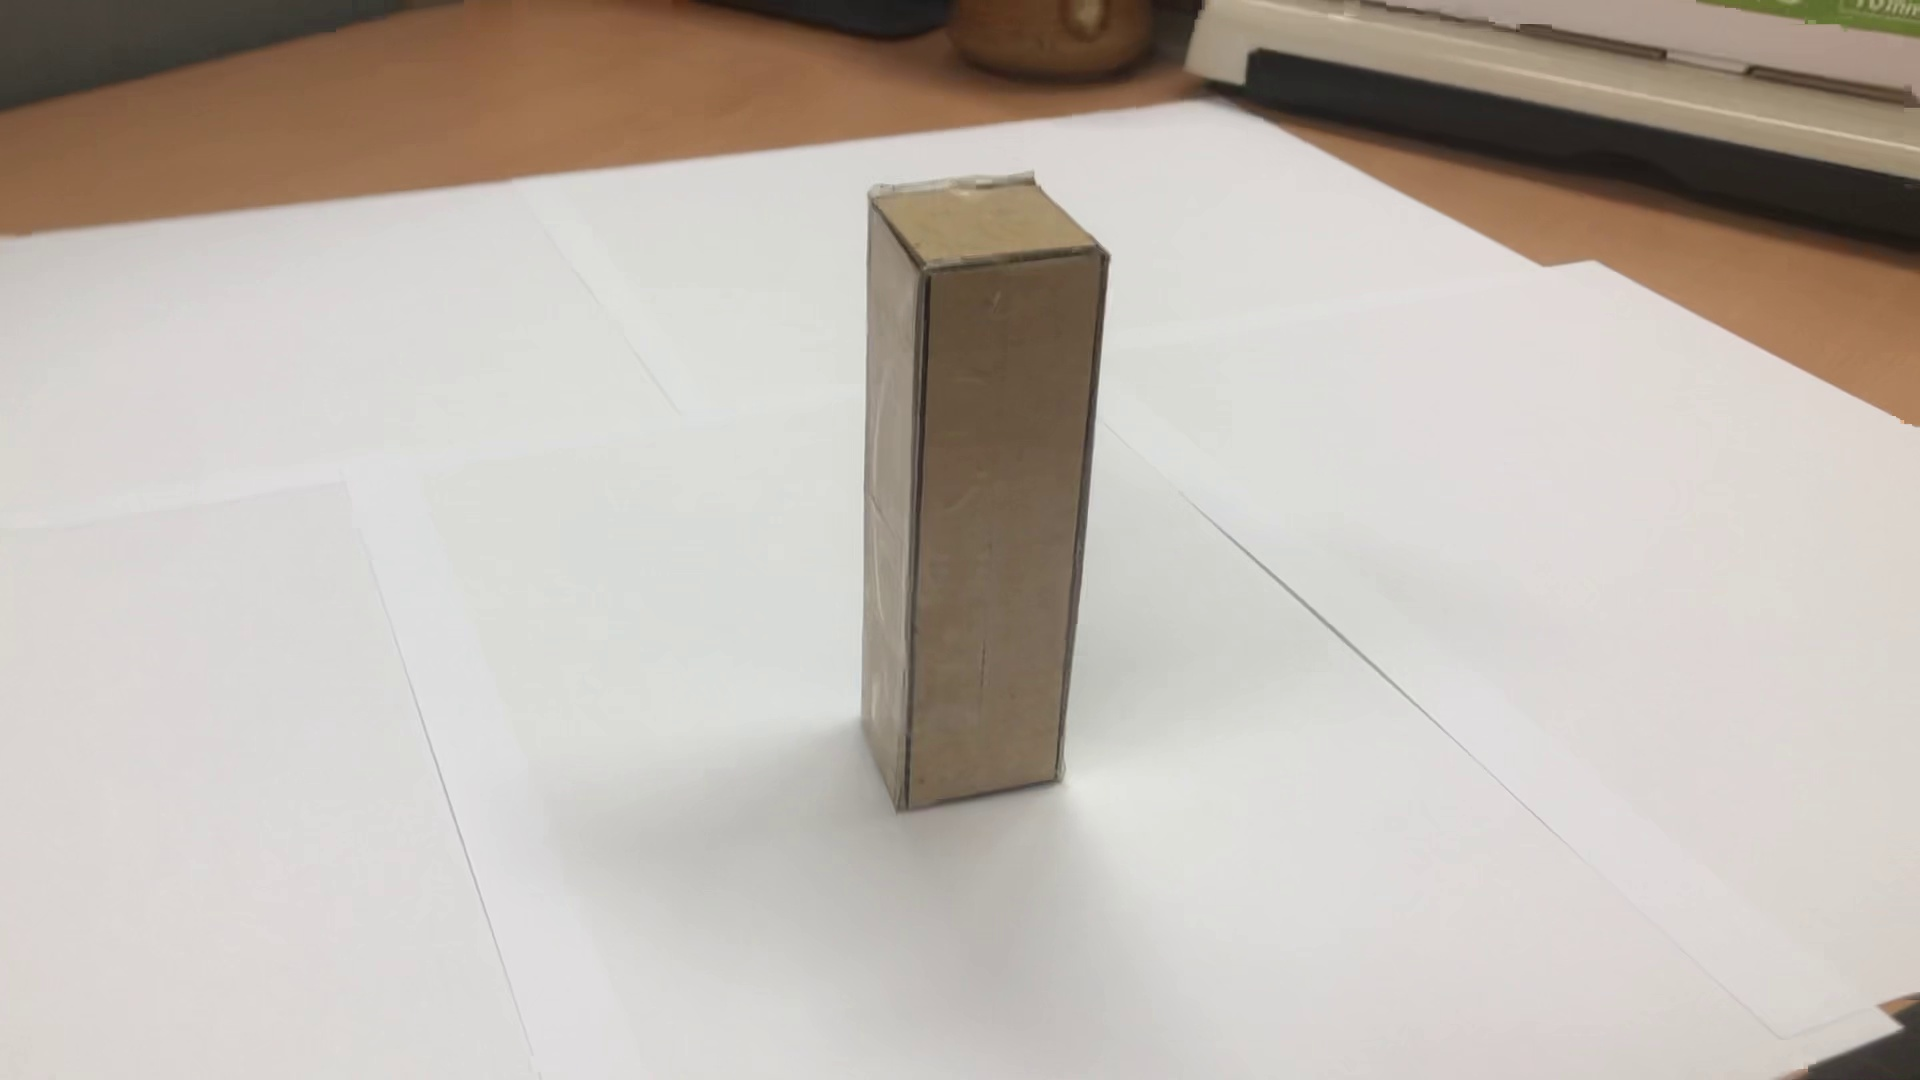box: (829, 160, 1134, 839)
